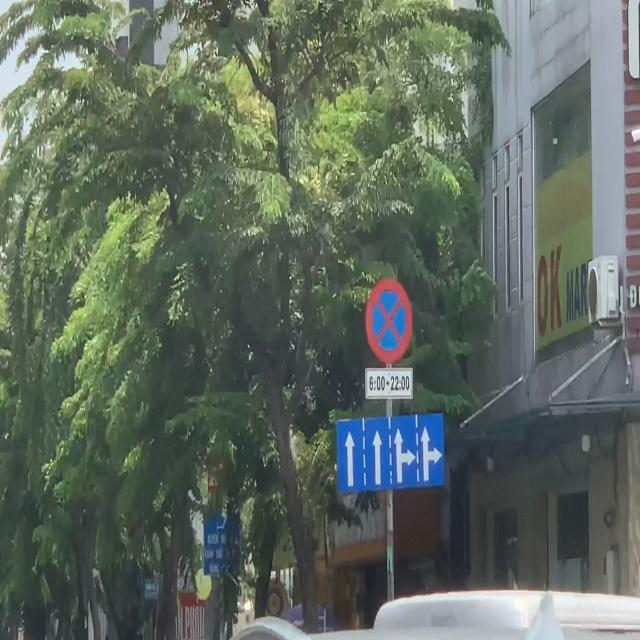Cam dung va do: (364, 278, 412, 364)
